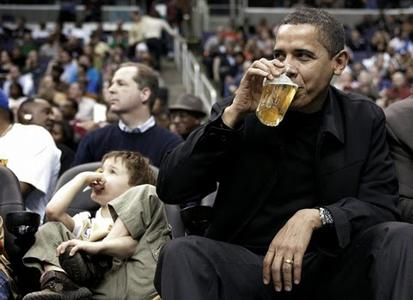person: (154, 5, 413, 299)
